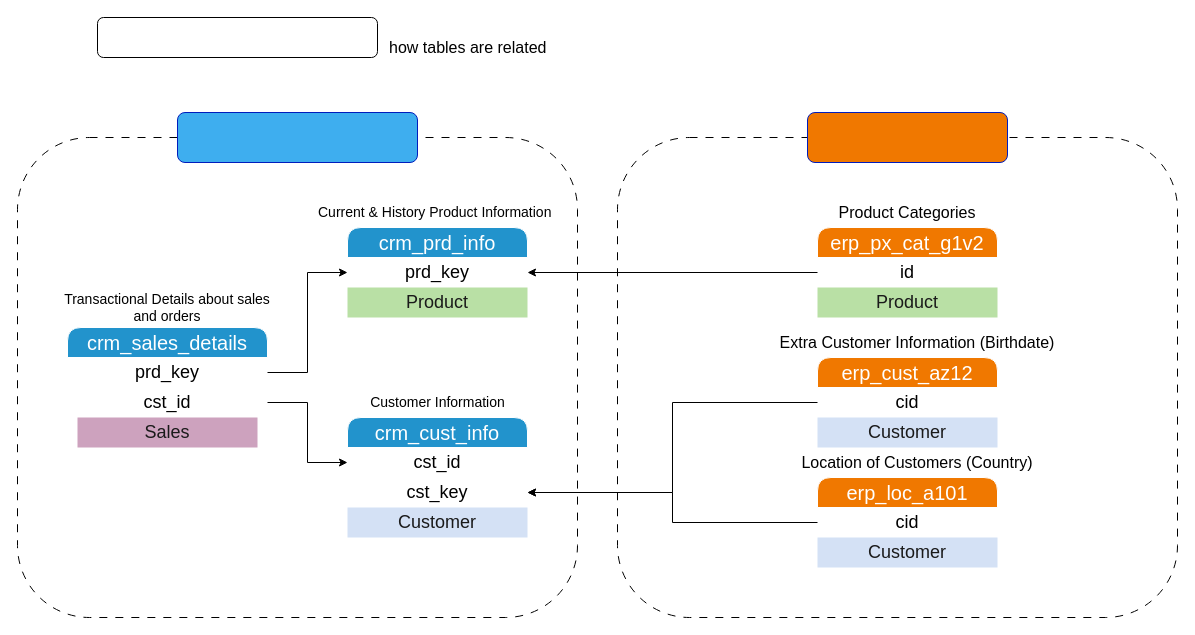
The diagram is 1195 pixels wide and 635 high, and some of its shapes have lost their labels. Each missing label, with the centre of its shape:
"CRM" belongs at pixel 297 137.
"ERP" belongs at pixel 907 137.
"INTEGRATION MODEL" belongs at pixel 237 37.
